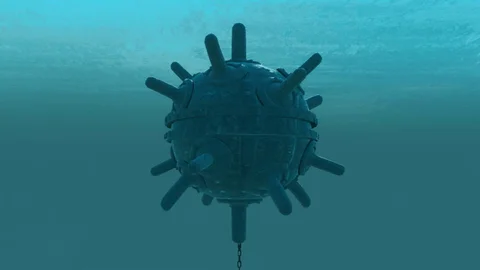Mines: (146, 21, 346, 243)
